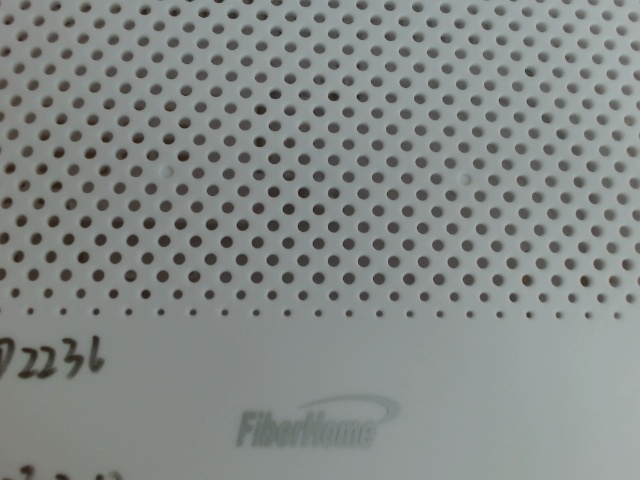AI_FiberHome: (227, 385, 412, 460)
